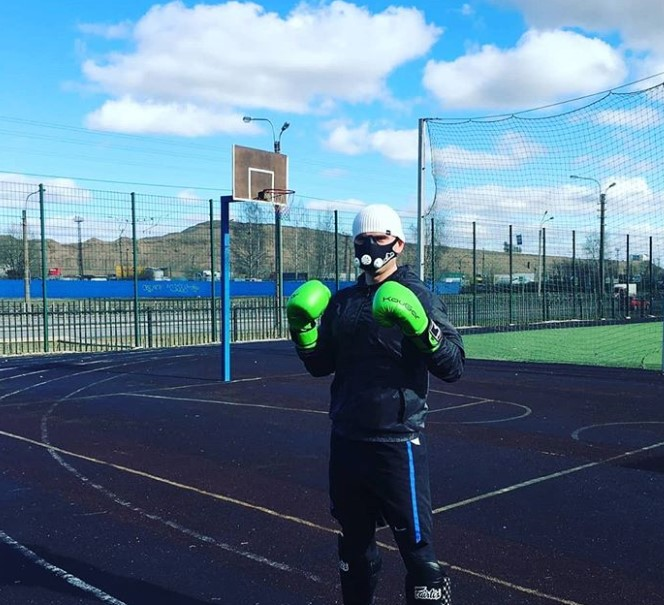face_with_mask: (348, 201, 408, 278)
